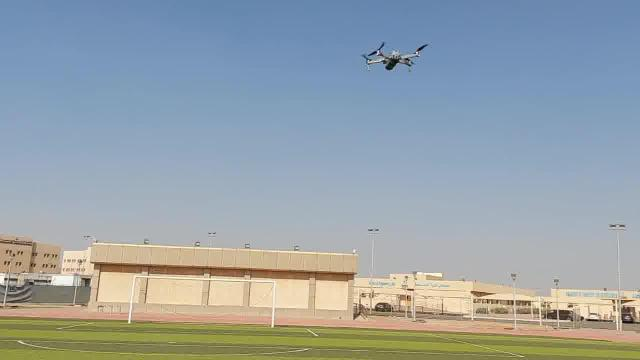drone: (356, 41, 432, 77)
